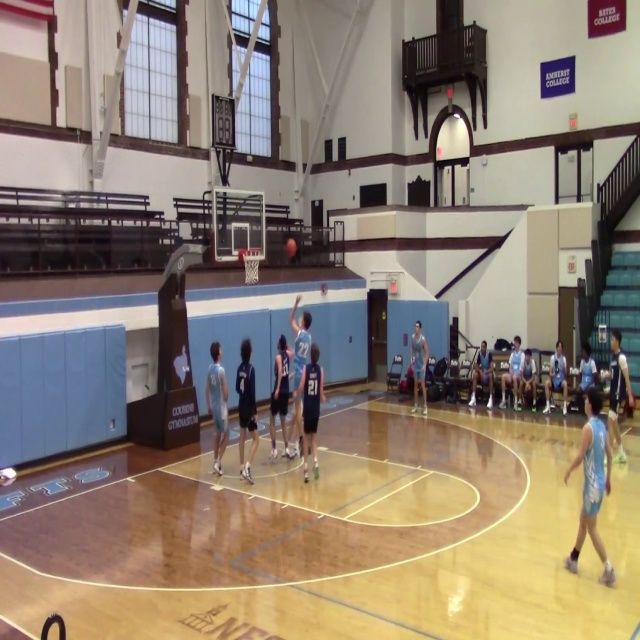Basketball: (286, 238, 297, 259), (600, 369, 611, 381)
